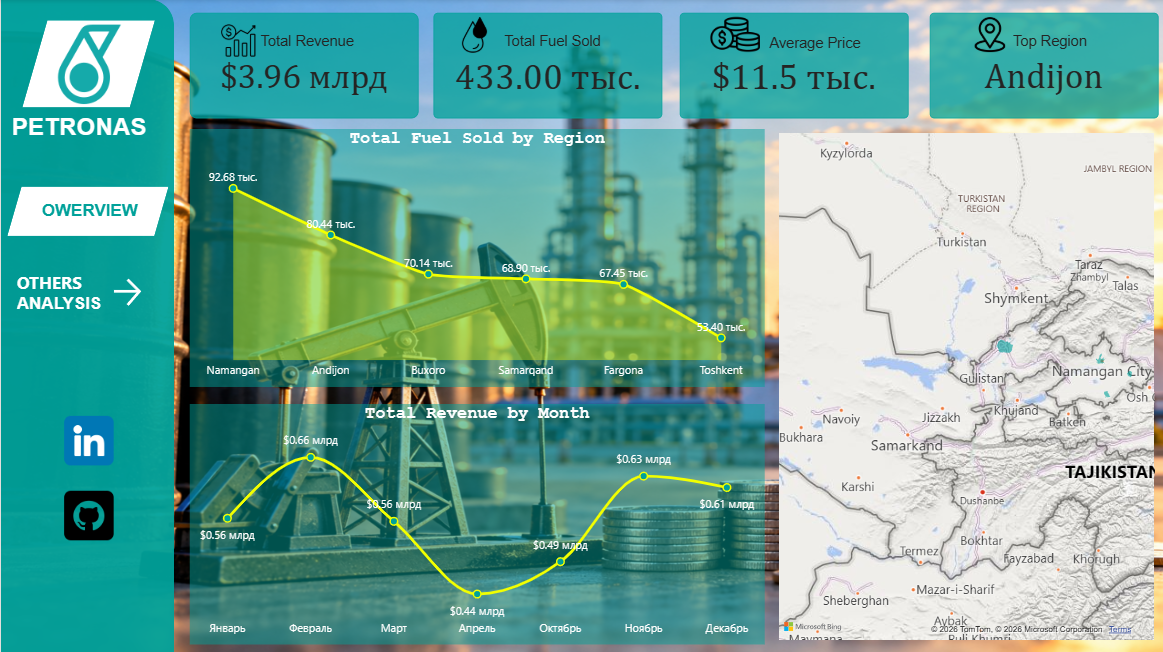

Layout of this report page (visuals, bound fields, positions):
{"tool":"powerbi","page":{"name":"Страница 1","canvas":[1280,720],"ordinal":0},"visuals":[{"type":"image","box":[0,0,1280,720],"z":0},{"type":"card","fields":{"Values":["benzin_dirty.Total Revenue"]},"box":[207.1,15.7,251.4,115.7],"z":1000},{"type":"shape","box":[0,0,190,720],"z":2000},{"type":"card","fields":{"Values":["benzin_dirty.Average Price"]},"box":[745.7,15.7,251.4,115.7],"z":3000},{"type":"card","fields":{"Values":["benzin_dirty.Total Fuel Sold"]},"box":[474.3,15.7,251.4,115.7],"z":4000},{"type":"card","fields":{"Values":["Min(benzin_dirty.Region)"]},"box":[1020,15.7,251.4,115.7],"z":5000},{"type":"textbox","box":[280,32.9,128.6,31.4],"z":7000},{"type":"image","box":[492.9,14.3,54.3,51.4],"z":8000},{"type":"textbox","box":[547.1,32.9,161.4,31.4],"z":9000},{"type":"image","box":[774.3,7.1,64.3,64.3],"z":10000},{"type":"textbox","box":[838.6,34.3,138.6,30],"z":11000},{"type":"image","box":[1055.7,15.7,60,48.6],"z":12000},{"type":"textbox","box":[1105.7,32.9,105.7,31.4],"z":13000},{"type":"image","box":[48.6,21.4,95.7,97.1],"z":14000},{"type":"shape","box":[22.9,22.9,145.7,95.7],"z":15000},{"type":"image","box":[34.3,22.9,125.7,97.1],"z":16000},{"type":"textbox","box":[7.1,121.4,167.1,44.3],"z":17000},{"type":"shape","box":[7.1,205.7,177.1,54.3],"z":18000},{"type":"textbox","box":[40,217.1,128.6,42.9],"z":19000},{"type":"image","box":[64.3,452.9,64.3,64.3],"z":20000},{"type":"image","box":[64.3,531.4,64.3,71.4],"z":21000},{"type":"filledMap","fields":{"Category":["benzin_dirty.Region"]},"box":[850,142.9,421.4,565.7],"z":22000},{"type":"lineChart","title":"Total Revenue by Month","fields":{"Category":["benzin_dirty.Date.Изменение.Иерархия дат.Месяц"],"Y":["benzin_dirty.Total Revenue"]},"box":[207.1,444.3,631.4,264.3],"z":23000},{"type":"stackedAreaChart","title":"Total Fuel Sold by Region","fields":{"Category":["benzin_dirty.Region"],"Y":["benzin_dirty.Total Fuel Sold"]},"box":[207.1,142.9,631.4,282.9],"z":24000},{"type":"textbox","box":[12.9,294.3,184.3,94.3],"z":25000},{"type":"actionButton","box":[118.6,301.4,50,40],"z":25001},{"type":"image","box":[230,21.4,60,47.1],"z":25002}]}

Visuals, with their boxes in screenshot pixels (x1, y1, x2, y2), scaled from the page's 1280x720 canvas onto the 1163x652 screenshot:
image: 0/0/1162/651
card - benzin_dirty.Total Revenue: 188/14/417/119
shape: 0/0/173/651
card - benzin_dirty.Average Price: 678/14/906/119
card - benzin_dirty.Total Fuel Sold: 431/14/659/119
card - Min(benzin_dirty.Region): 927/14/1155/119
textbox: 254/30/371/58
image: 448/13/497/59
textbox: 497/30/644/58
image: 704/6/762/65
textbox: 762/31/888/58
image: 959/14/1014/58
textbox: 1005/30/1101/58
image: 44/19/131/107
shape: 21/21/153/107
image: 31/21/145/109
textbox: 6/110/158/150
shape: 6/186/167/235
textbox: 36/197/153/235
image: 58/410/117/468
image: 58/481/117/546
filledMap - benzin_dirty.Region: 772/129/1155/642
"Total Revenue by Month" lineChart: 188/402/762/642
"Total Fuel Sold by Region" stackedAreaChart: 188/129/762/386
textbox: 12/267/179/352
actionButton: 108/273/153/309
image: 209/19/263/62
